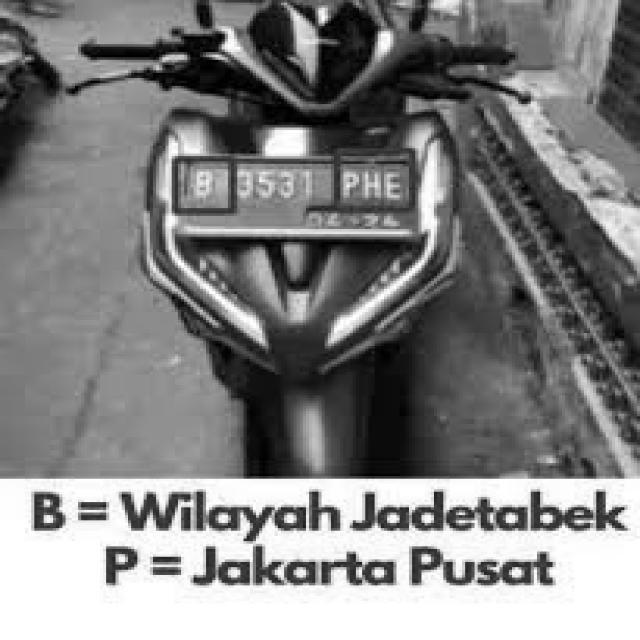clone-license-plate: (176, 165, 416, 242)
